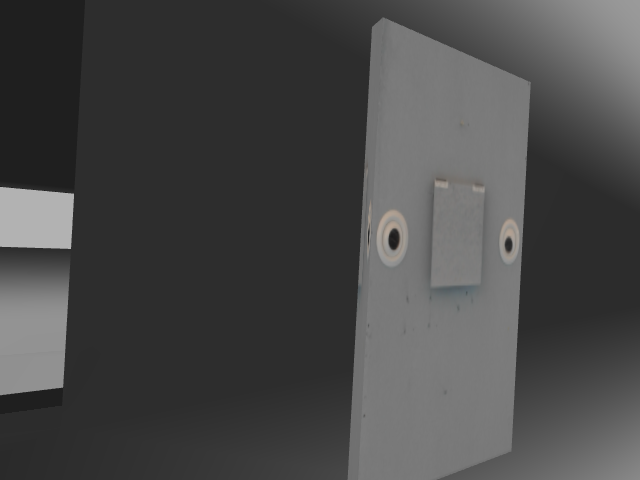facade: (374, 172, 521, 291)
